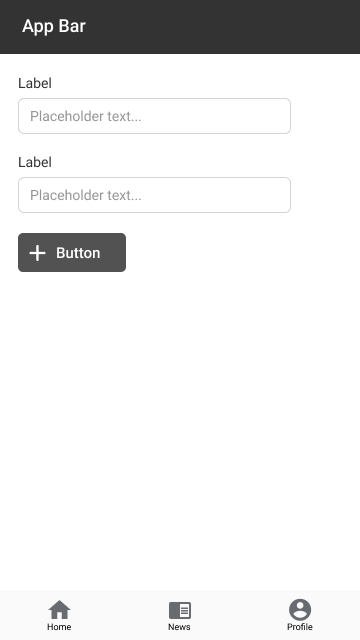buttonImage: (15, 230, 128, 274)
editText: (16, 96, 295, 138), (15, 175, 293, 215)
navigationButton: (1, 591, 358, 638)
textView: (16, 152, 54, 171), (16, 74, 53, 92)
toolbar: (1, 1, 360, 55)
